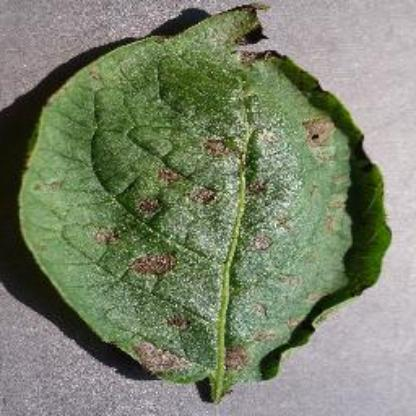Early-Blight: (13, 0, 408, 402)
